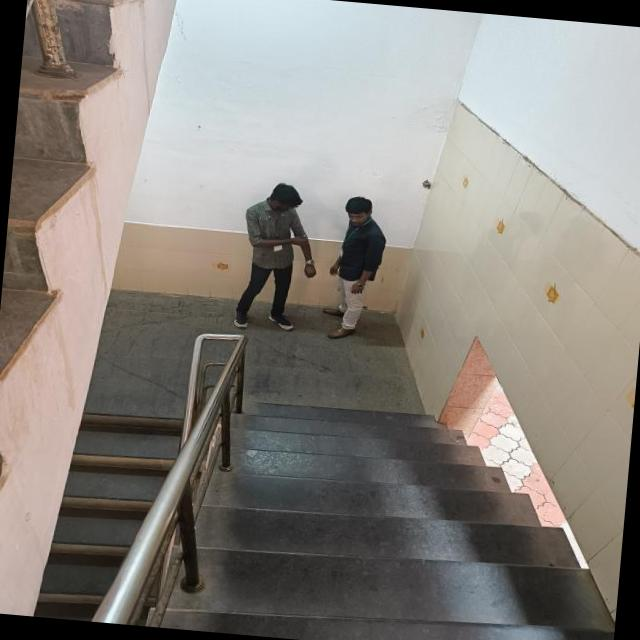id_card: (337, 214, 372, 259), (268, 212, 288, 254)
